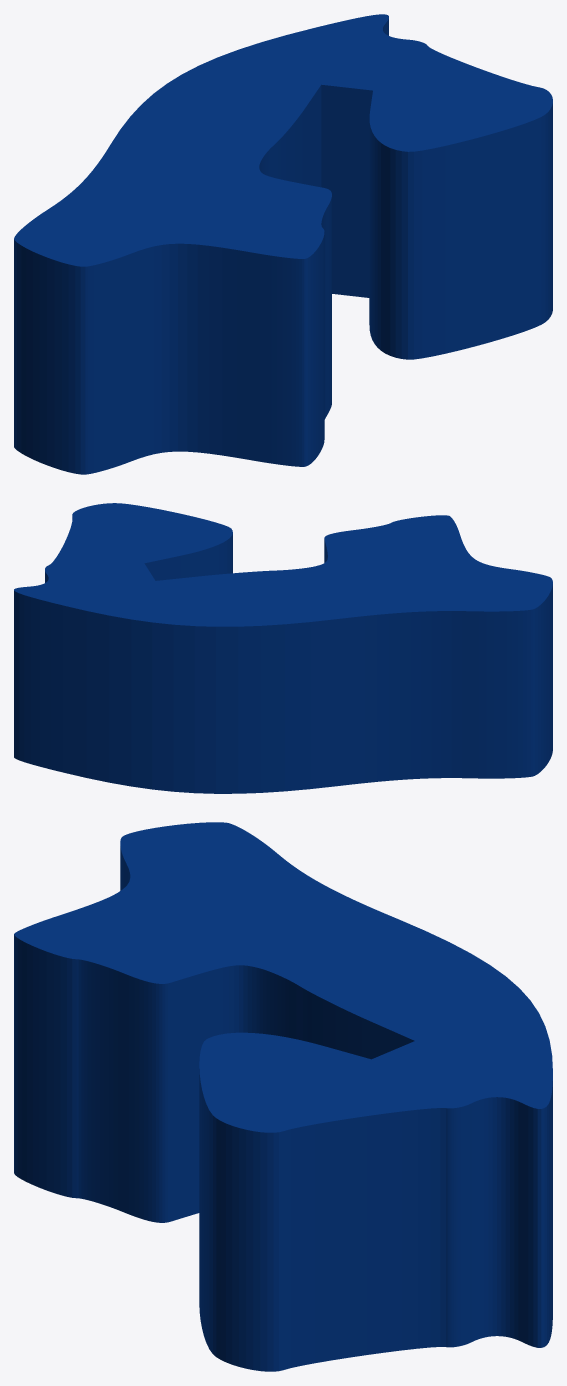
3 views of the same model, one above another, from view 1: azimuth 30°, elevation 25°; view 2: azimuth 150°, elevation 25°; view 3: azimuth 270°, elevation 25° (orthographic). The views are drawn at different scales.
Visible parts, largest first — view 1: Curve.029_path4236; view 2: Curve.029_path4236; view 3: Curve.029_path4236.
Boxes of the visible parts, bbox=[...] form: Curve.029_path4236: bbox=[14, 14, 552, 474]; Curve.029_path4236: bbox=[14, 503, 552, 793]; Curve.029_path4236: bbox=[14, 822, 552, 1371].
Size of the model in its own units: 0.2787 by 0.1 by 0.2044.
